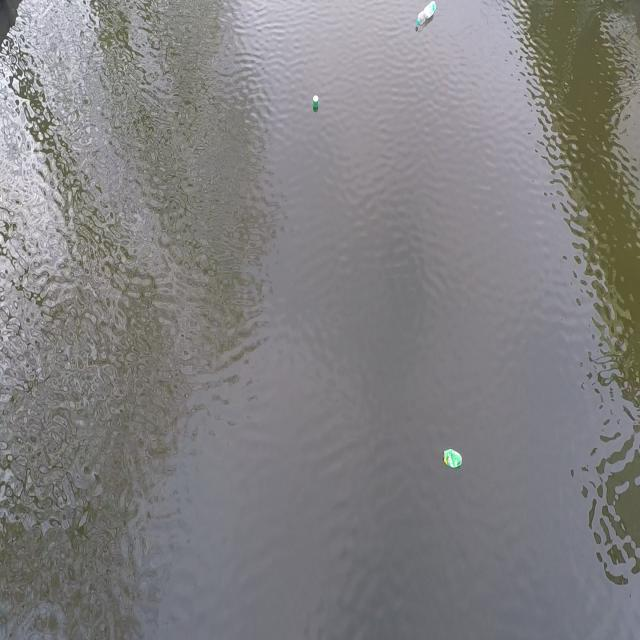Bouteille plastique: (414, 1, 445, 29)
Non plastique: (440, 445, 465, 473)
